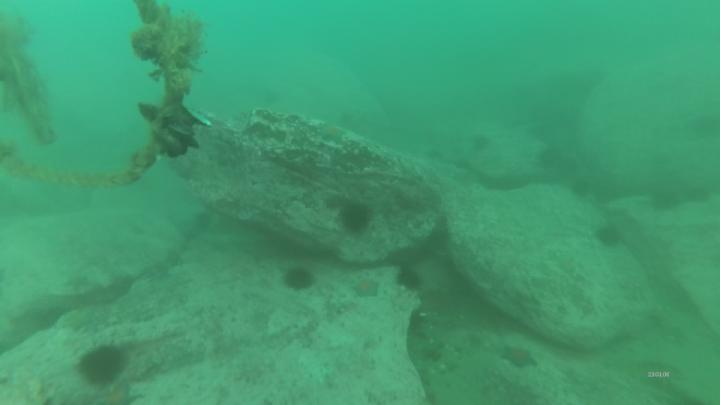echinus: (80, 349, 123, 386), (341, 206, 373, 233), (284, 269, 315, 291), (596, 228, 620, 250), (398, 271, 420, 289)
starfish: (504, 347, 540, 370), (100, 386, 139, 405), (353, 279, 382, 300)
